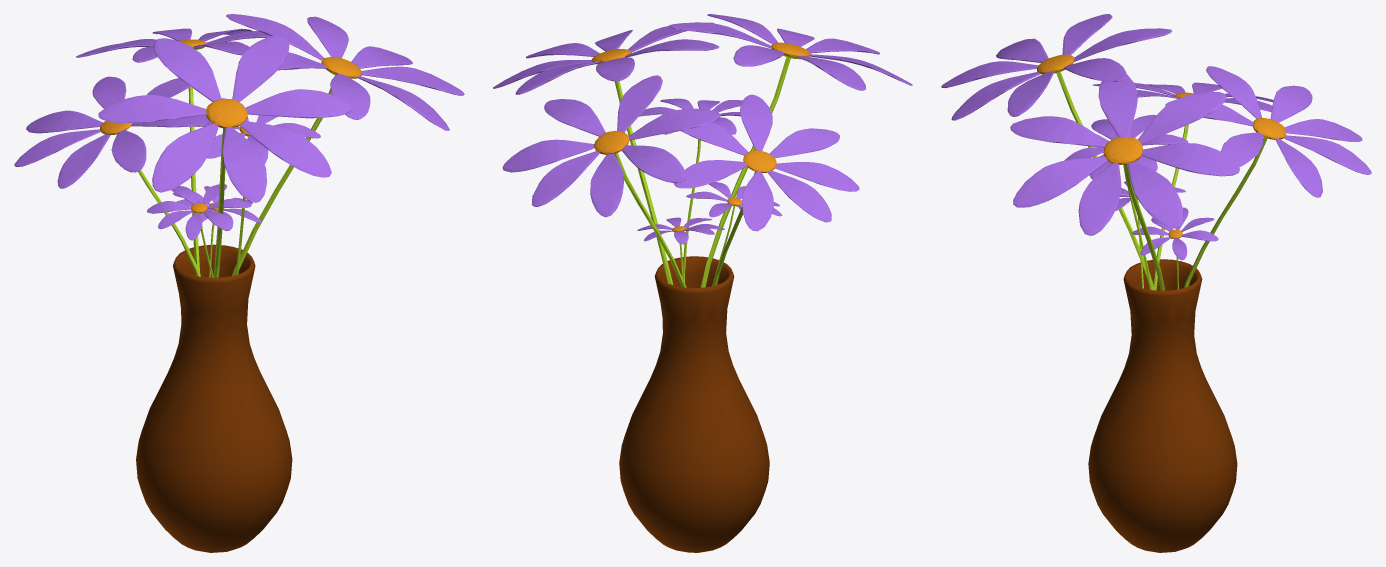
File: FlowerVaseSimple.fbx
3 views of the same model, side by side, from view 1: azimuth 30°, elevation 25°; view 2: azimuth 150°, elevation 25°; view 3: azimuth 270°, elevation 25° (orthographic). The views are drawn at different scales.
Parts seen in each view (by area): view 1: Vase, Cube.002, Cube.001, Cube.003, Cube, Cube.005, Cube.004, Cube.006; view 2: Vase, Cube, Cube.003, Cube.002, Cube.001, Cube.004, Cube.005, Cube.006; view 3: Vase, Cube.001, Cube, Cube.002, Cube.004, Cube.003, Cube.006.
Boxes of the visible parts, x1,y1,x2,y2 form: Vase: (136, 244, 292, 552); Cube.002: (98, 35, 352, 277); Cube.001: (226, 14, 464, 275); Cube.003: (14, 76, 210, 276); Cube: (76, 28, 271, 275); Cube.005: (147, 184, 251, 277); Cube.004: (194, 98, 320, 274); Cube.006: (172, 186, 261, 277); Vase: (619, 256, 769, 552); Cube: (502, 75, 720, 287); Cube.003: (673, 94, 859, 285); Cube.002: (668, 14, 912, 287); Cube.001: (493, 22, 719, 284); Cube.004: (639, 98, 742, 282); Cube.005: (686, 182, 782, 286); Cube.006: (637, 217, 724, 278); Vase: (1088, 259, 1237, 552); Cube.001: (1010, 74, 1239, 290); Cube: (1165, 66, 1371, 287); Cube.002: (941, 14, 1172, 290); Cube.004: (1064, 114, 1188, 289); Cube.003: (1093, 82, 1273, 290); Cube.006: (1132, 207, 1218, 289).
Bounding box in the file's own units: 468 × 598 × 479.
